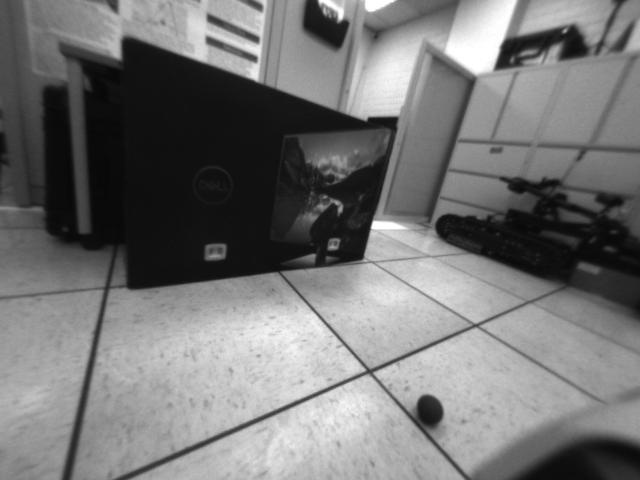dogtoy: (409, 389, 449, 430)
